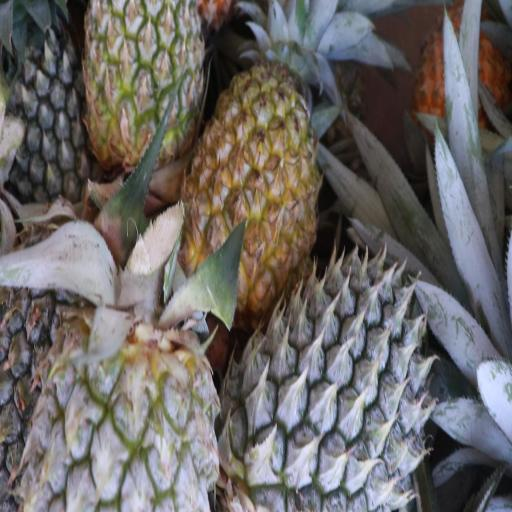------------------------------: (84, 0, 204, 165)
Pineapple - v8 v1: (189, 63, 316, 299)
